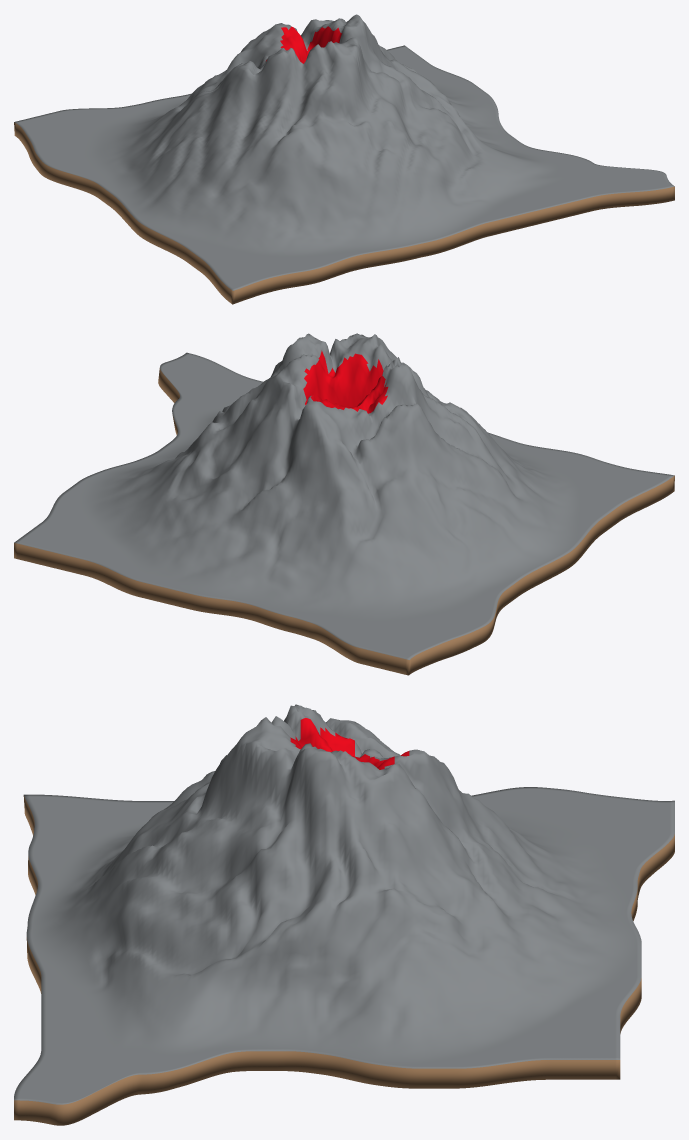
The model's file is Volcano.fbx.
3 renders of one model, top to bottom at view 1: azimuth 30°, elevation 25°; view 2: azimuth 150°, elevation 25°; view 3: azimuth 270°, elevation 25°, orthographic. The views are drawn at different scales.
Parts seen in each view (by area): view 1: Landscape; view 2: Landscape; view 3: Landscape.
Boxes of the visible parts, bbox=[...] form: Landscape: bbox=[14, 14, 674, 304]; Landscape: bbox=[14, 333, 674, 675]; Landscape: bbox=[14, 704, 674, 1125].
Bounding box in the file's own units: 240 × 79.29 × 211.
